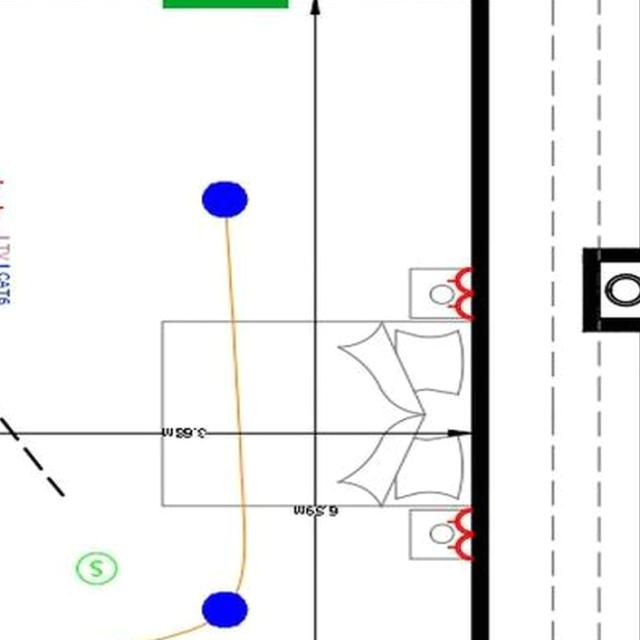Cat 6 Data Socket: (0, 256, 13, 308)
Co-Ax TV Socket: (0, 223, 13, 262)
Double Socket: (449, 269, 473, 321), (449, 508, 472, 562), (0, 173, 8, 220)
Low Energy Pendant Light: (202, 182, 248, 218), (202, 593, 247, 629)
Mains Wired Smoke Detector: (77, 554, 118, 586)
Radiator: (164, 0, 289, 8)
